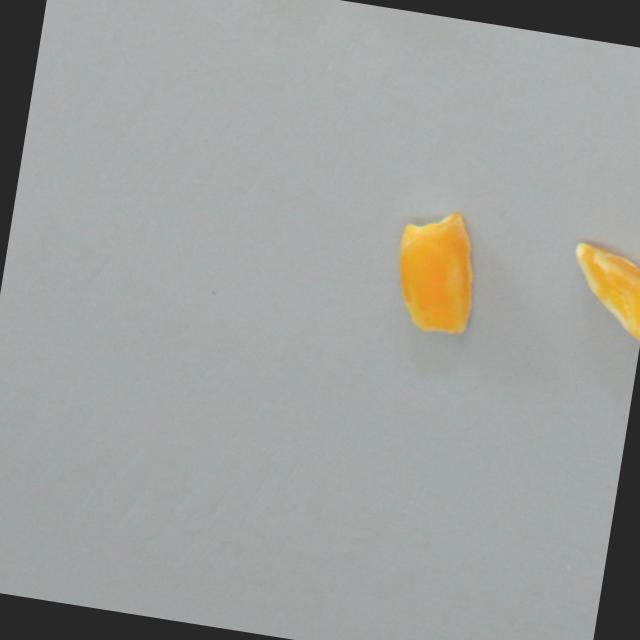pelicula: (383, 202, 490, 348), (554, 237, 640, 348)
